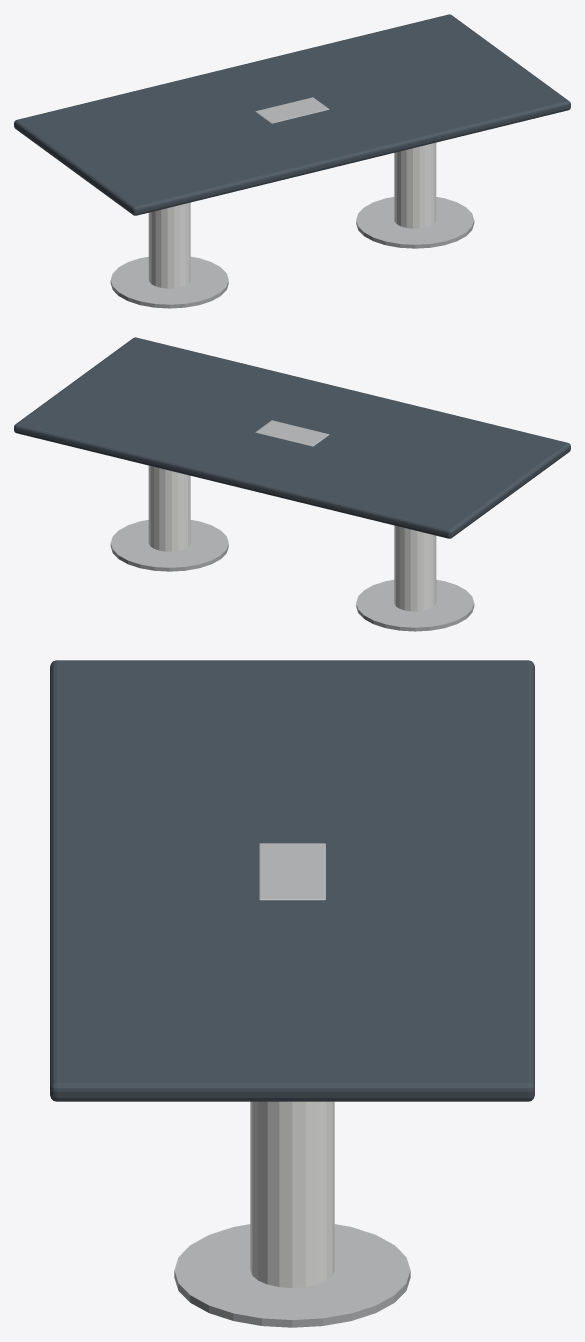
File: meeting_rooms___private_spaces_catalog_00.glb
3 renders of one model, top to bottom at view 1: azimuth 30°, elevation 25°; view 2: azimuth 150°, elevation 25°; view 3: azimuth 270°, elevation 25°, orthographic. The views are drawn at different scales.
Parts seen in each view (by area): view 1: Cube; view 2: Cube; view 3: Cube.
Boxes of the visible parts, x1,y1,x2,y2 form: Cube: (14, 14, 570, 308); Cube: (14, 337, 570, 631); Cube: (50, 660, 534, 1327).
Size of the model in its own units: 2.4 by 0.751 by 1.15.
